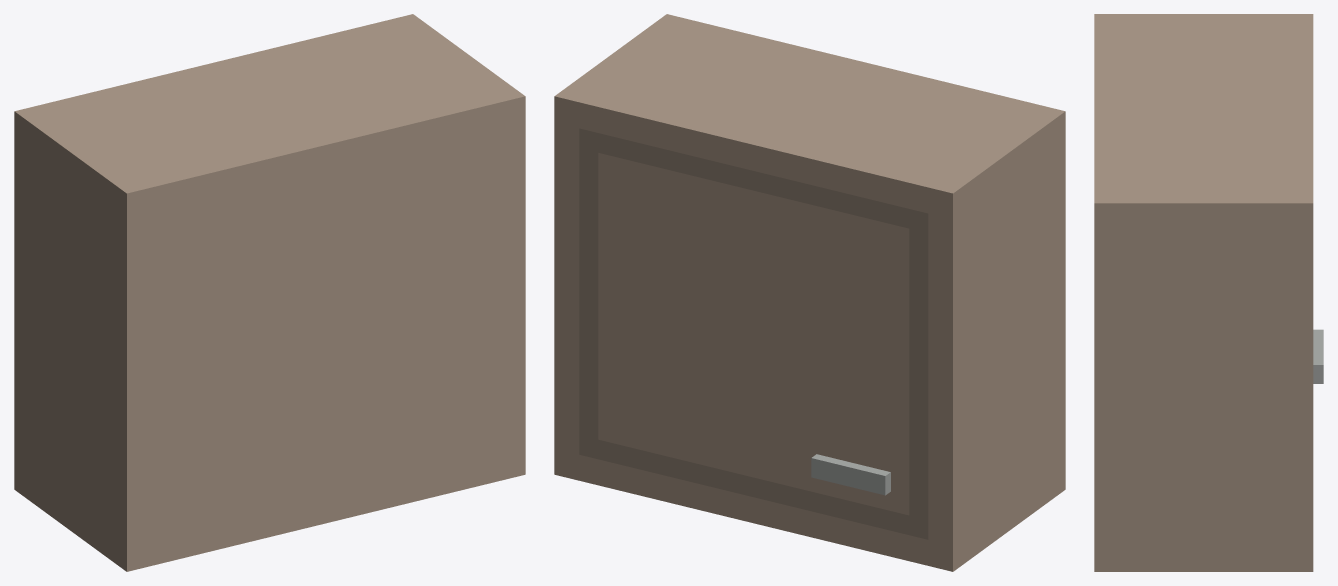
Rendered from kitchen_cabinet_upper.glb.
3 views of the same model, side by side, from view 1: azimuth 30°, elevation 25°; view 2: azimuth 150°, elevation 25°; view 3: azimuth 270°, elevation 25° (orthographic). The views are drawn at different scales.
Parts seen in each view (by area): view 1: kitchen_cabinet_upper; view 2: kitchen_cabinet_upper; view 3: kitchen_cabinet_upper.
Part boxes in pixels (left/top/right/bottom): kitchen_cabinet_upper: left=14, top=14, right=525, bottom=571; kitchen_cabinet_upper: left=554, top=14, right=1065, bottom=571; kitchen_cabinet_upper: left=1094, top=14, right=1323, bottom=571.
Bounding box in the file's own units: 0.7938 × 0.72 × 0.4062.
